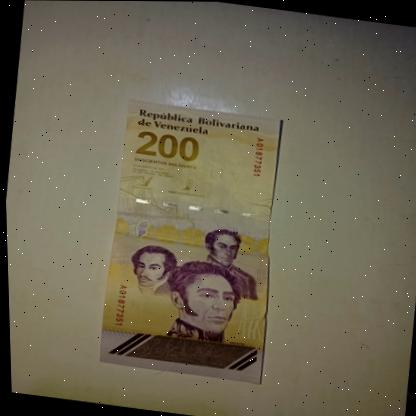two_hundred-front-vef: (89, 97, 290, 383)
